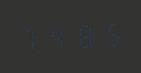eight: (70, 20, 95, 51)
five: (96, 18, 121, 49)
four: (44, 21, 69, 53)
seven: (18, 23, 43, 54)
